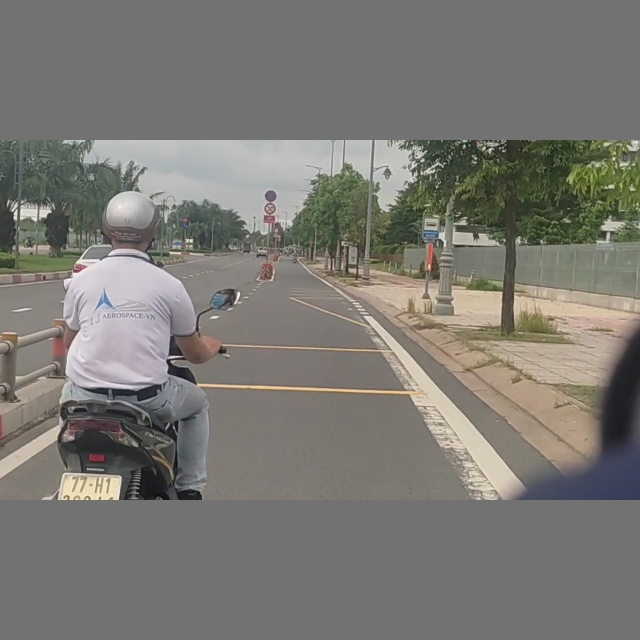I.434a: (421, 215, 439, 241)
P.111: (264, 203, 277, 215)
P.130: (264, 189, 278, 203)
